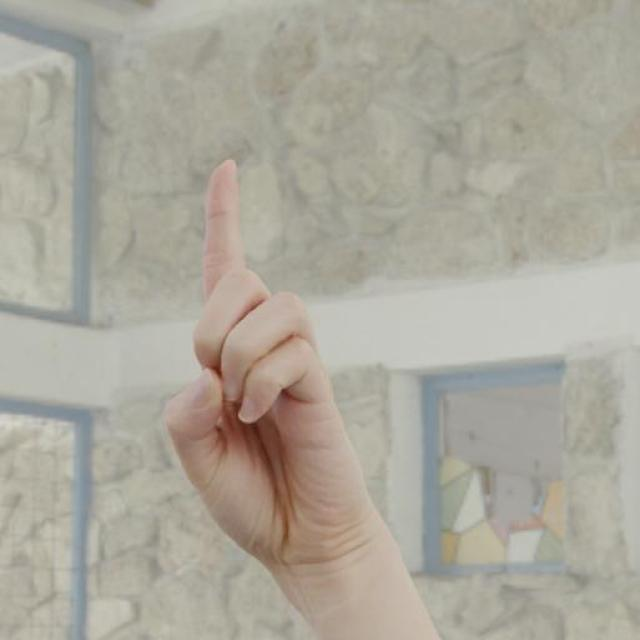D: (157, 154, 378, 576)
